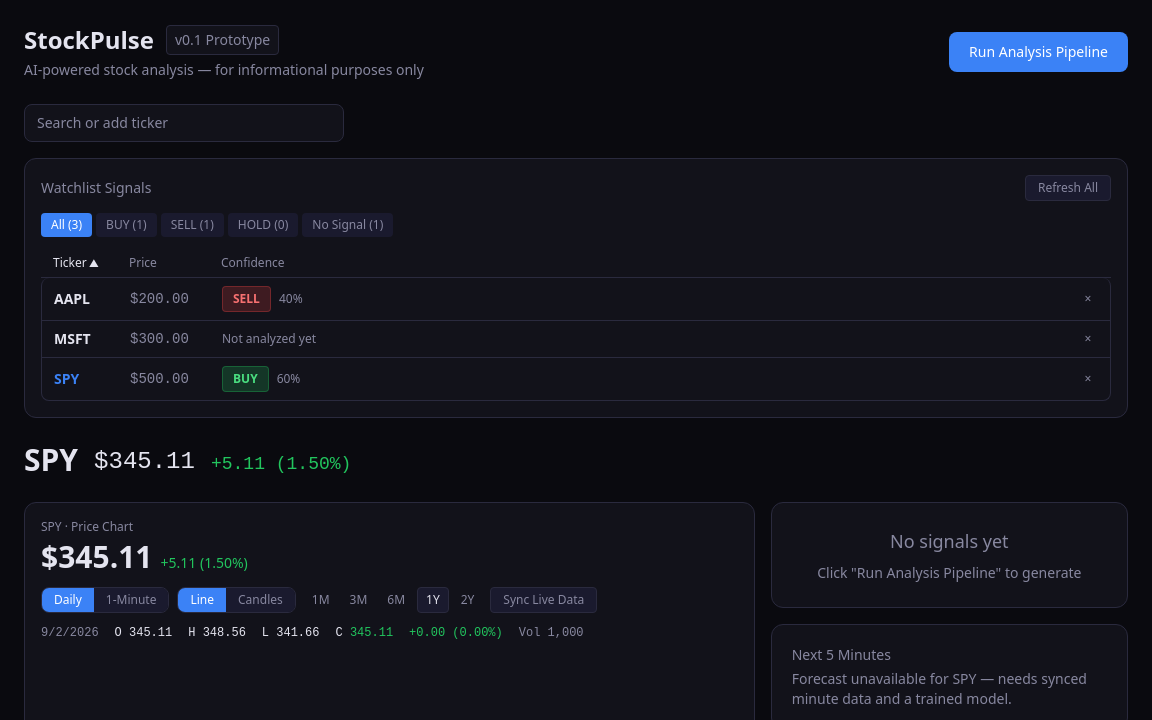
it: Dashboard › filters the watchlist overview by signal action
Check: the button "AAPL" is shown, box top-left (54, 289), bottom-right (118, 309)
Check: the button "MSFT" is shown, box top-left (54, 329), bottom-right (118, 349)
Click the button "BUY (1)": click(126, 225) top-left (96, 213), bottom-right (157, 237)
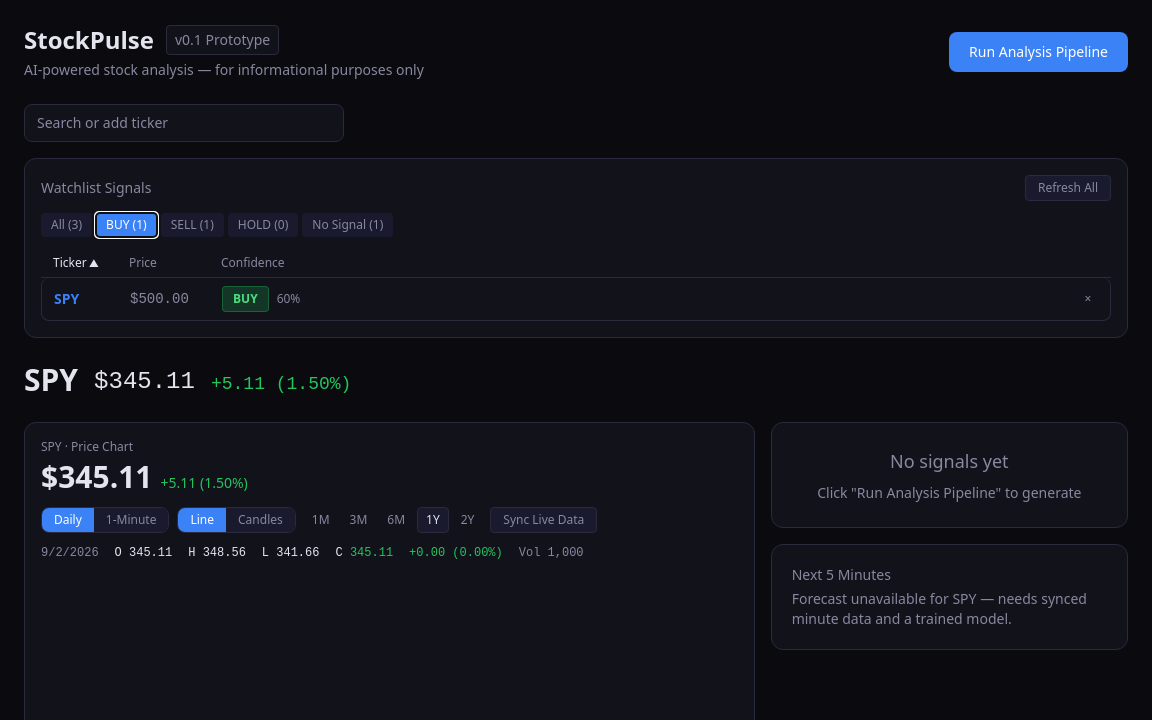
Check: the button "SPY" is shown, box top-left (54, 289), bottom-right (118, 309)
Check: the button "AAPL" is gone
Check: the button "MSFT" is gone
Click the button "No Signal (1)": click(348, 225) top-left (302, 213), bottom-right (393, 237)
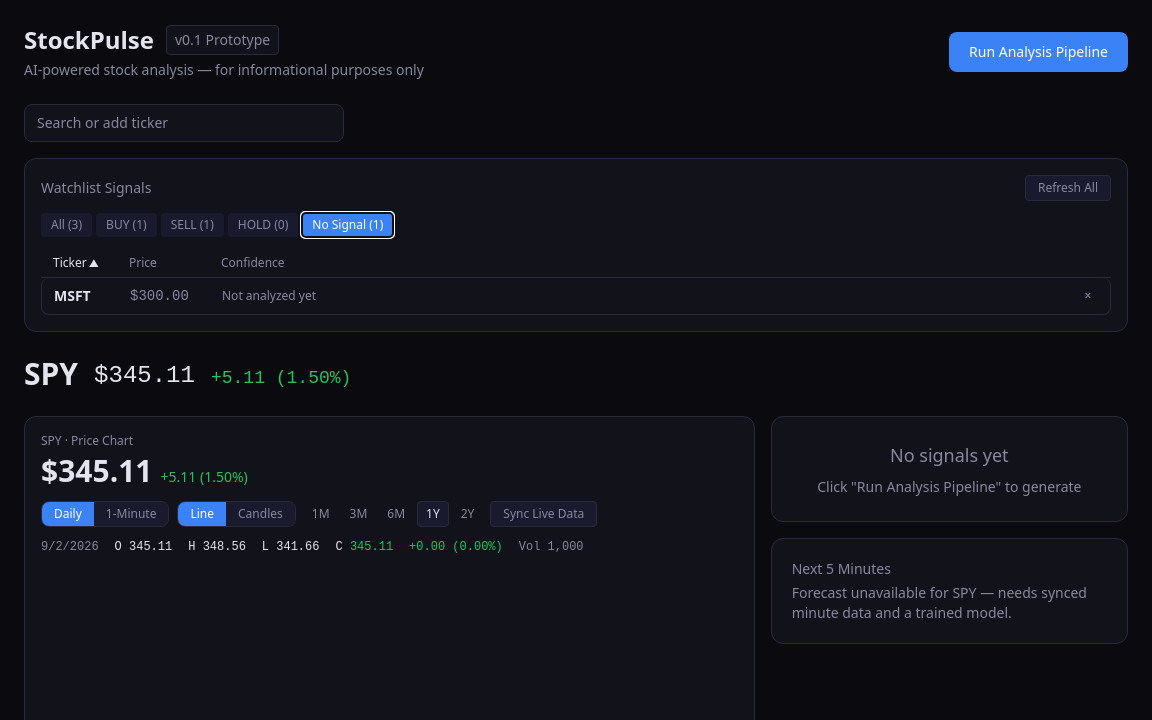
Check: the button "MSFT" is shown, box top-left (54, 286), bottom-right (118, 306)
